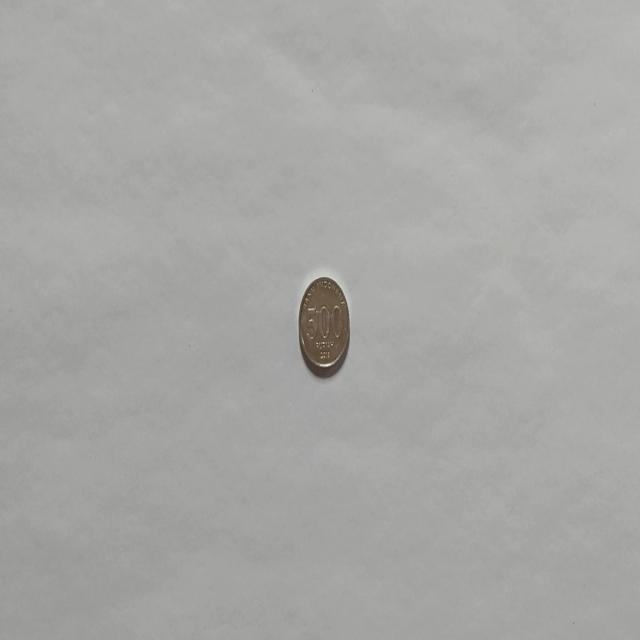lima ratus rupiah: (298, 274, 350, 377)
